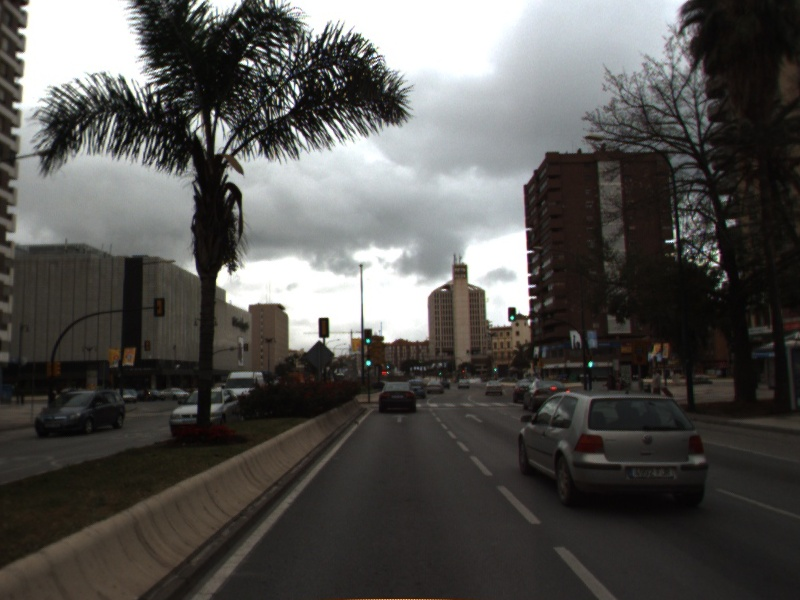STRAIGHT: (462, 410, 486, 425), (389, 412, 411, 424)
